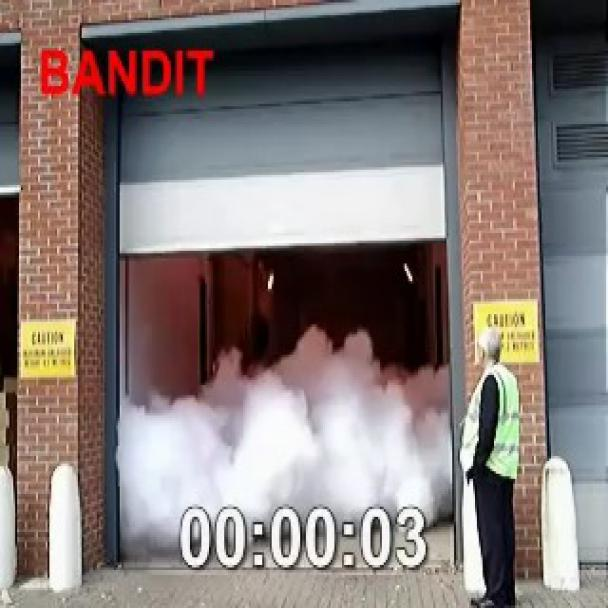smoke: (66, 283, 470, 533)
